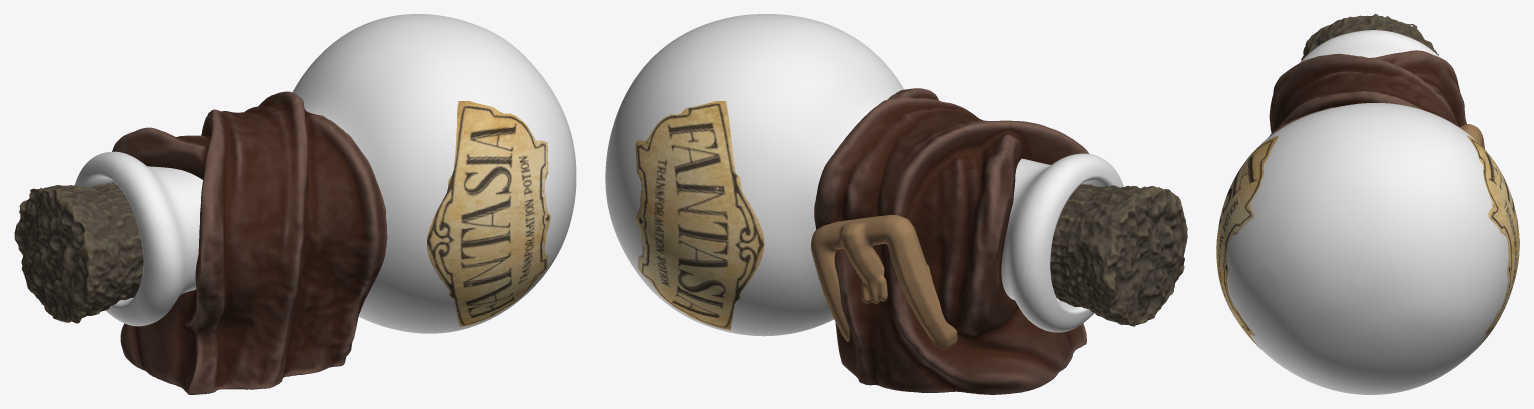
File: Prop - Potion.glb
3 views of the same model, side by side, from view 1: azimuth 30°, elevation 25°; view 2: azimuth 150°, elevation 25°; view 3: azimuth 270°, elevation 25° (orthographic). The views are drawn at different scales.
Parts seen in each view (by area): view 1: potion; view 2: potion; view 3: potion.
Boxes of the visible parts, x1,y1,x2,y2 form: potion: (14,14,576,394); potion: (605,14,1187,394); potion: (1216,14,1519,394).
Size of the model in its own units: 0.7455 by 0.4003 by 0.4123.
4 materials, 2 textured.
